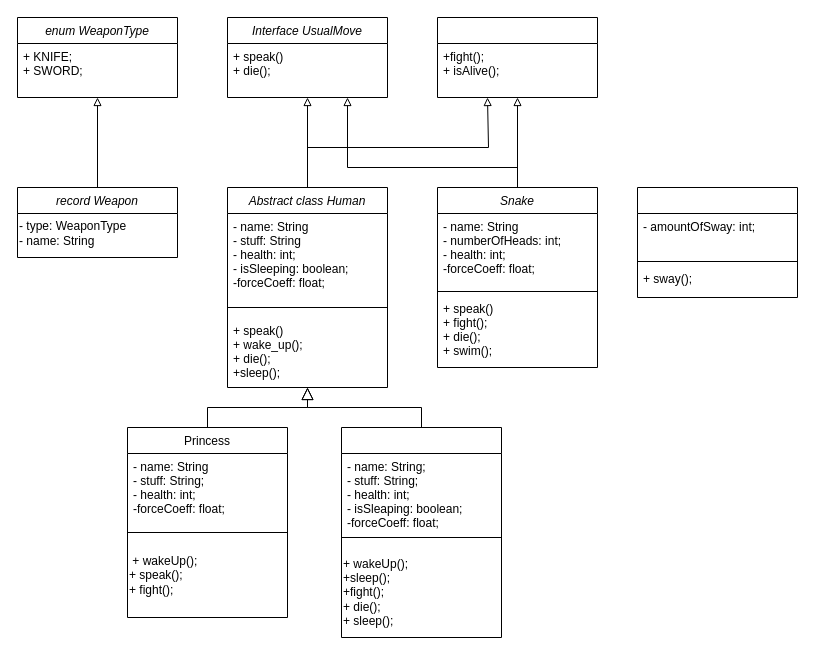
Image size: 815x655. Some labels were removed from this diagram. Here are the shapes that lost their labels. From the top down, the box of each, then its label:
(436, 16, 598, 98): Interface Fightable
(636, 186, 798, 298): Sea
(340, 426, 502, 638): OlkhovayaChurka
